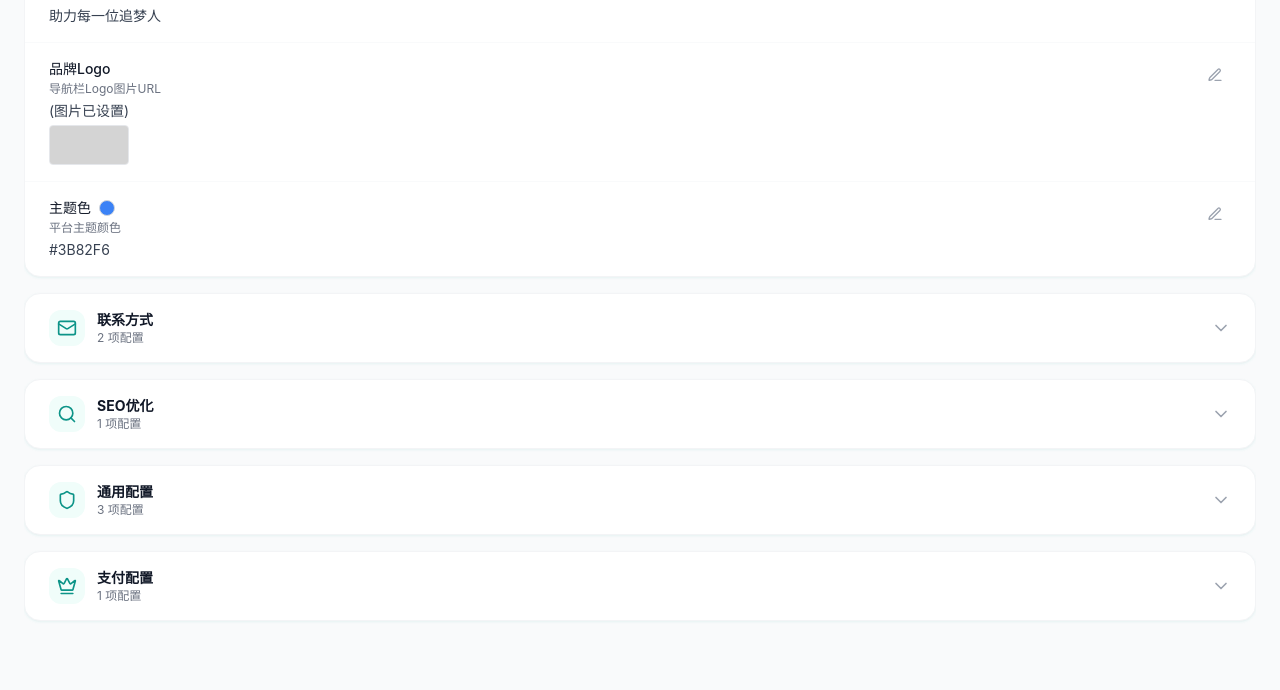
it: AdminSettings › 动态表单字段 › 正常：boolean 类型渲染为下拉选择框
(page scrolled)
Note: 展开 general 分组
Click the heading "通用配置". click: [125, 492]
box: [97,482,153,502]
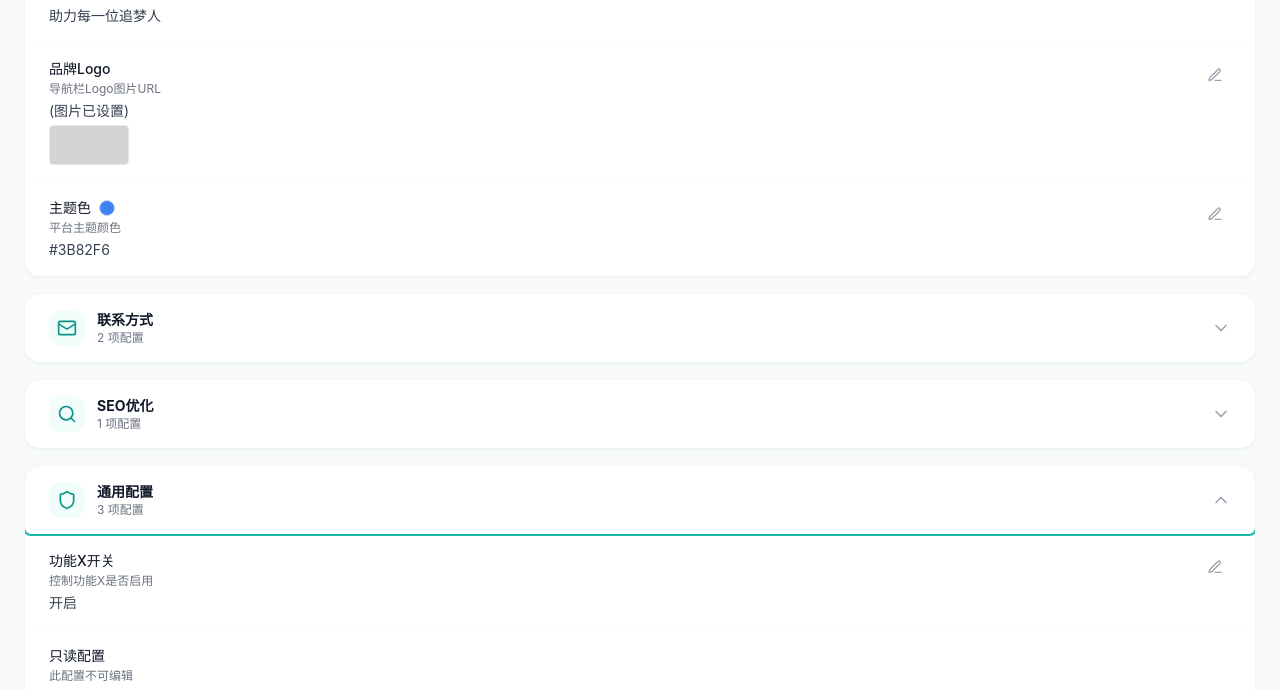
Expected: the text "开启" is shown, [49,594,77,611]
Click the button without text in the row of "控制功能X是否启用". click: [1215, 567]
box: [1199,551,1231,583]
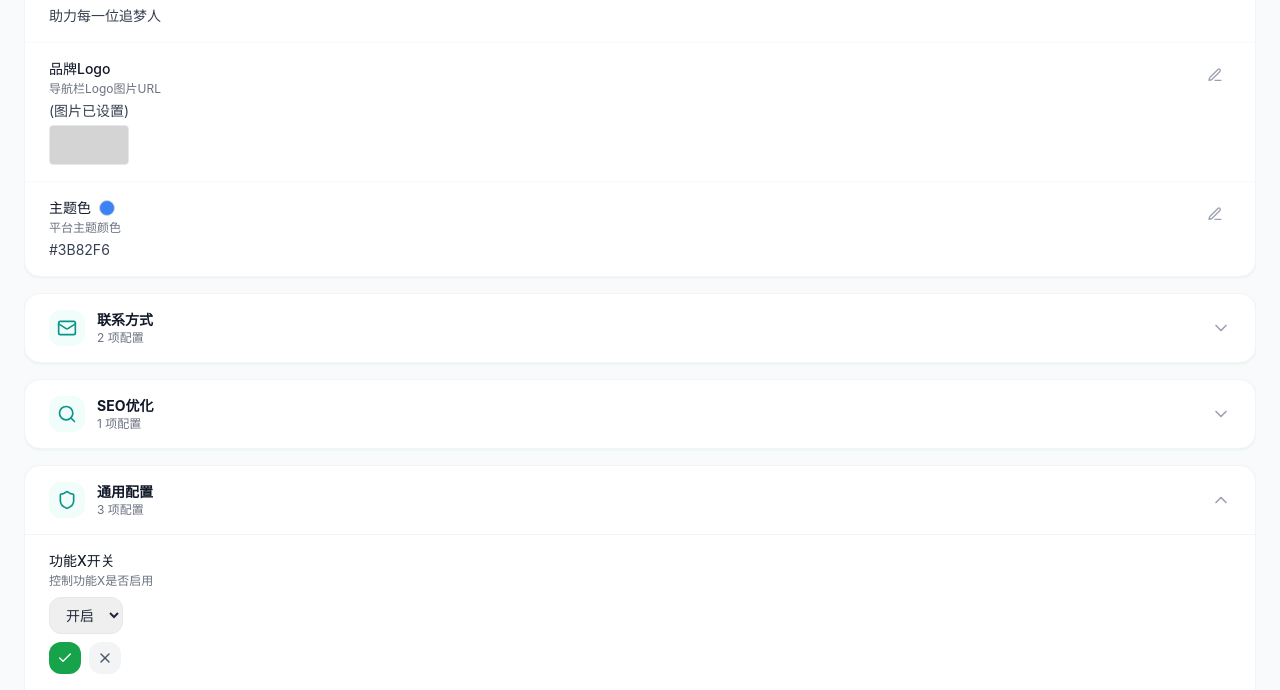
Expected: the dropdown shows "开启", [49,597,123,634]
